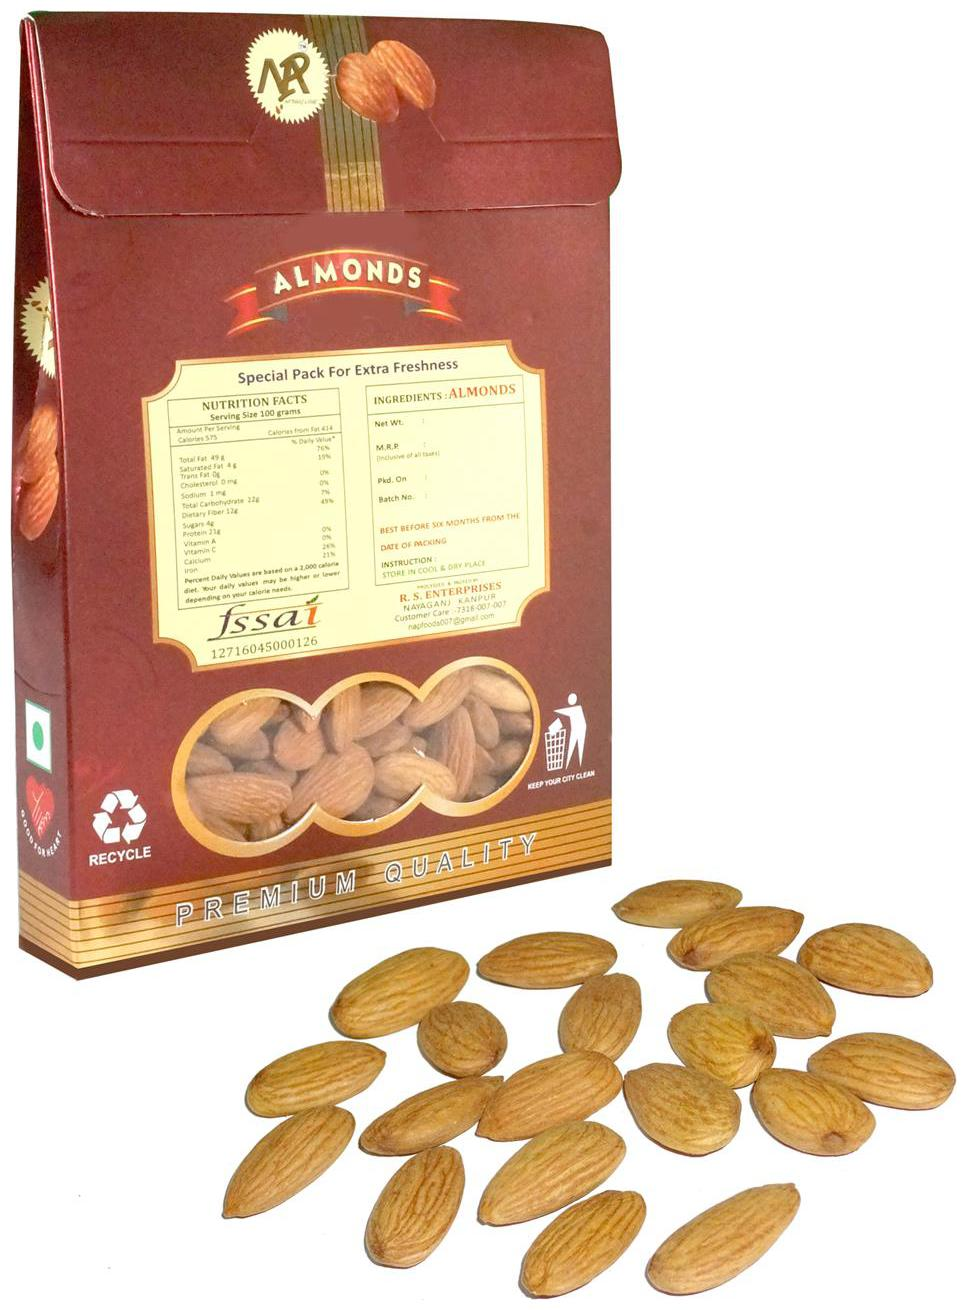fssai: (213, 592, 321, 640)
